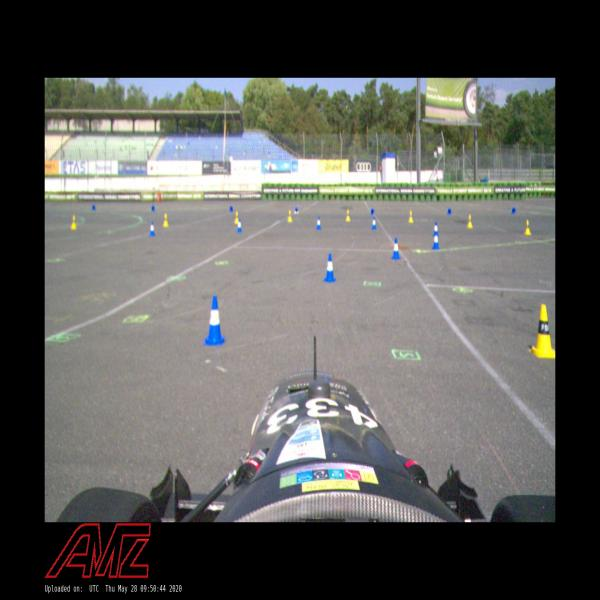blue_cone: (202, 295, 226, 347), (322, 253, 337, 283), (391, 237, 401, 260), (431, 221, 440, 237), (432, 233, 440, 250), (148, 221, 156, 237), (316, 215, 322, 230), (371, 215, 377, 230), (237, 219, 242, 233), (294, 206, 299, 214), (370, 208, 375, 215)
yellow_cone: (529, 304, 555, 359), (524, 219, 532, 235), (467, 214, 474, 229), (70, 215, 77, 230), (162, 213, 169, 227), (234, 210, 240, 224), (408, 210, 414, 223), (287, 210, 293, 222), (345, 210, 351, 222)
